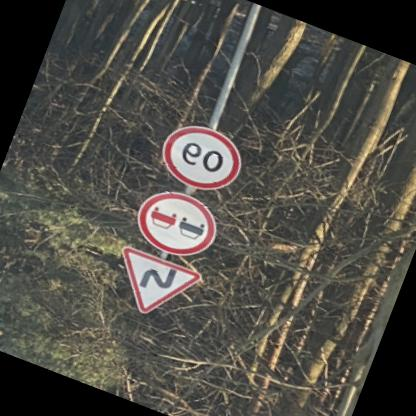speedlimit: (150, 116, 245, 200)
